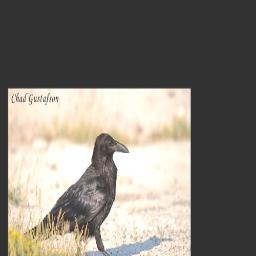Crow: (20, 132, 130, 256)
